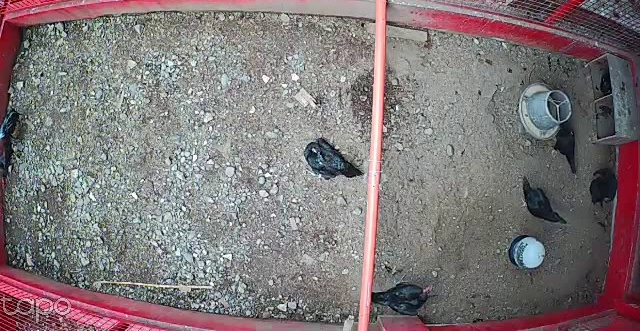Chicken: (300, 136, 367, 181), (517, 175, 570, 229), (369, 281, 440, 316), (546, 121, 578, 175), (588, 165, 622, 208)
Drinker: (508, 235, 546, 269)
Feeder: (518, 81, 572, 141)
